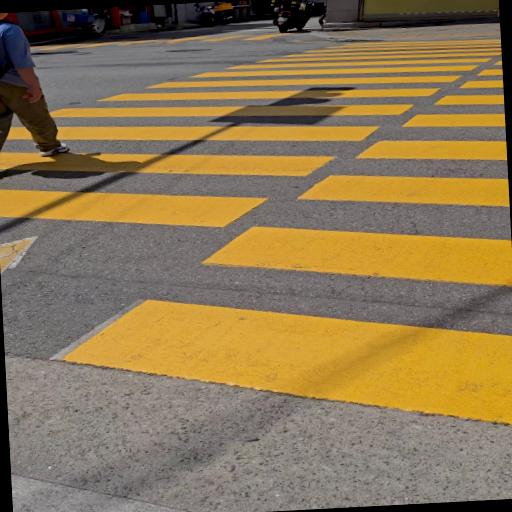yellow-crosswalk: (0, 27, 512, 472)
